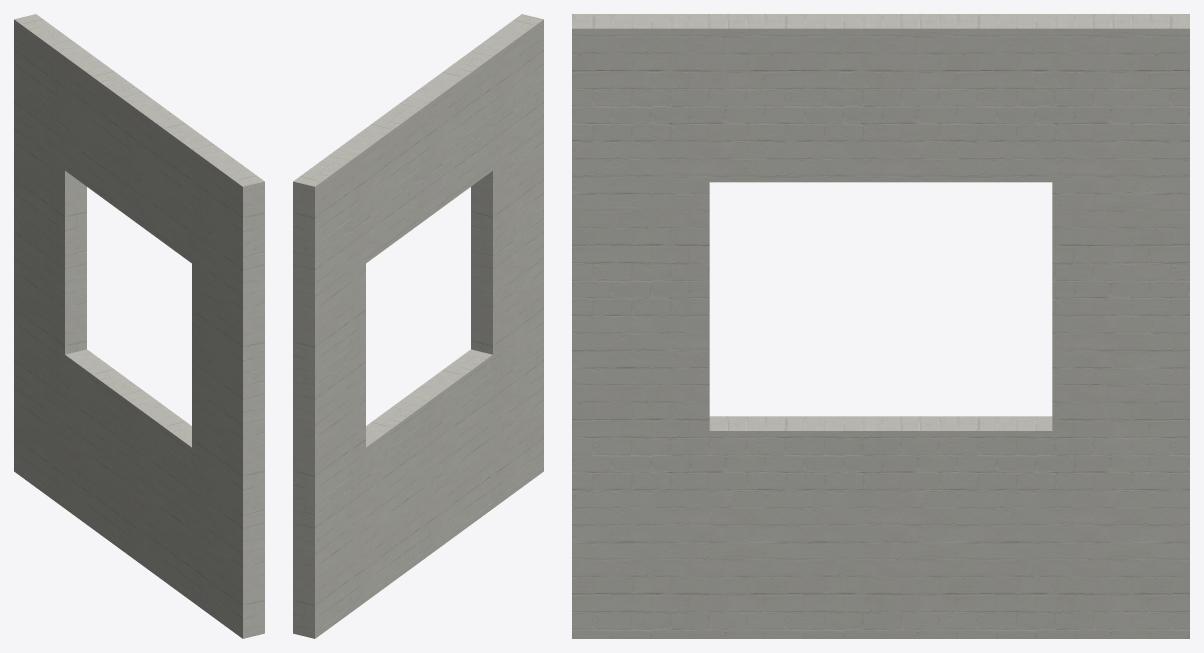
Rendered from soupwindwall037.glb.
3 views of the same model, side by side, from view 1: azimuth 30°, elevation 25°; view 2: azimuth 150°, elevation 25°; view 3: azimuth 270°, elevation 25° (orthographic). The views are drawn at different scales.
Visible parts, largest first — view 1: soupwindwall037_high_1; view 2: soupwindwall037_high_1; view 3: soupwindwall037_high_1.
Part boxes in pixels (x1,y1,x2,y2): soupwindwall037_high_1: (14, 14, 264, 638); soupwindwall037_high_1: (293, 14, 543, 638); soupwindwall037_high_1: (572, 14, 1189, 638).
Bounding box in the file's own units: 0.1504 × 2.95 × 2.7.
1 material, 1 textured.
